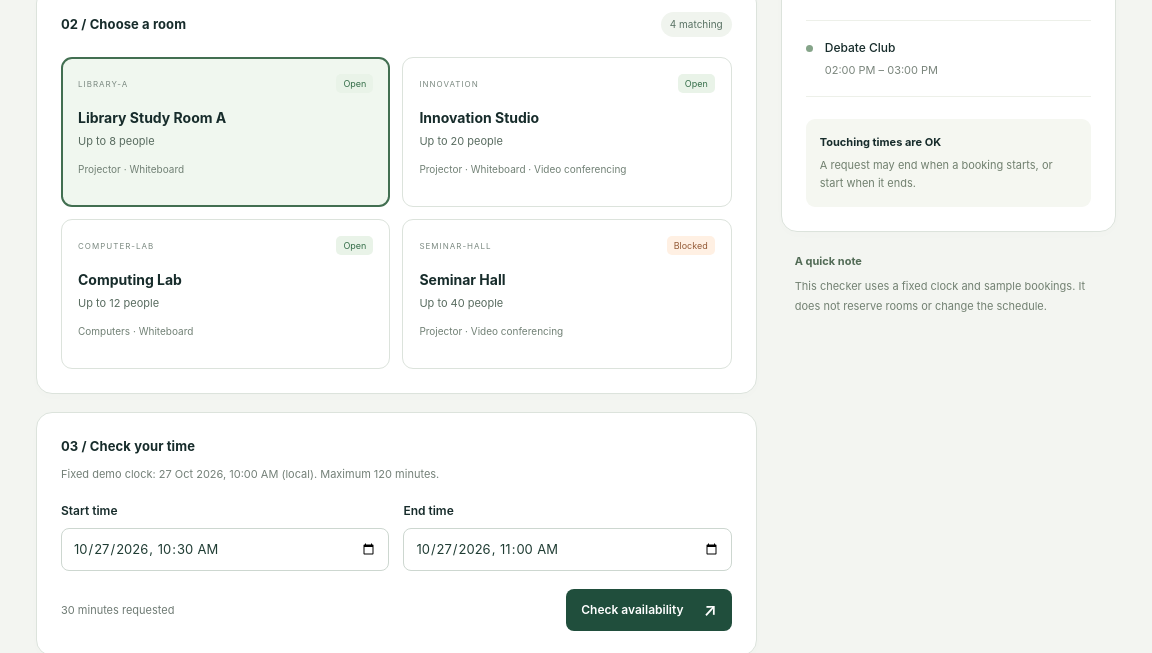
Test: mounted React integration: actual controls, state, result and schedule › F3 selecting a blocked matching room reports blocked feedback
(page scrolled)
Click the button that starts with "seminar-hall": click(455, 246) [402,219,732,369]
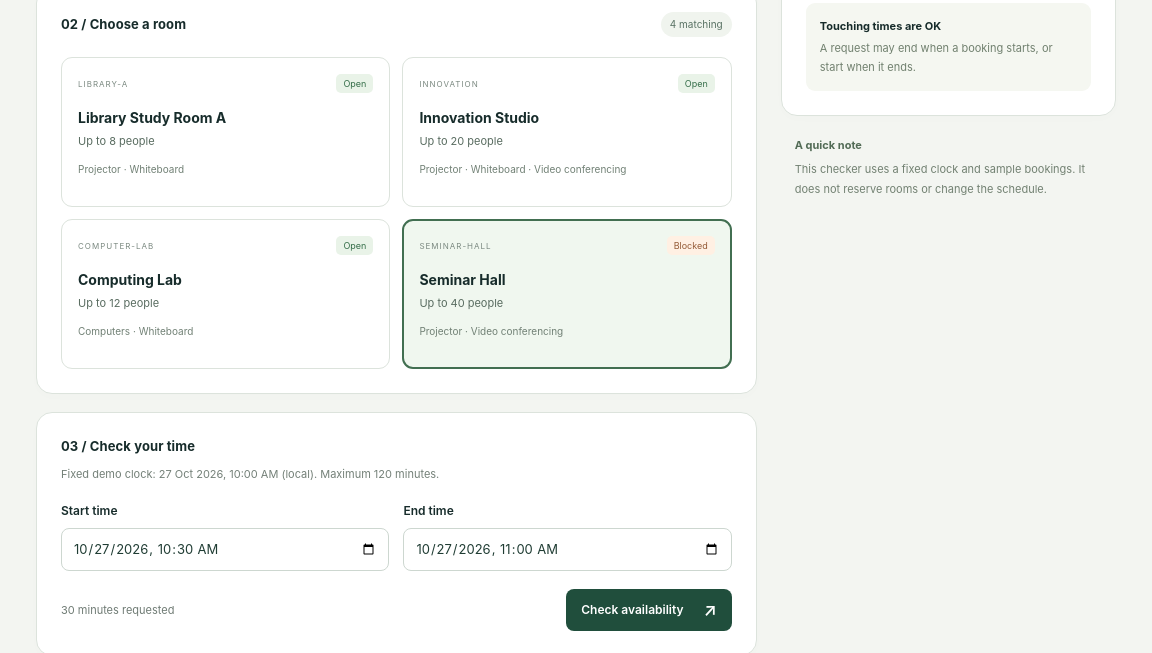
Click the button "Check availability ↗": click(649, 610) [566,589,732,631]
(page scrolled)
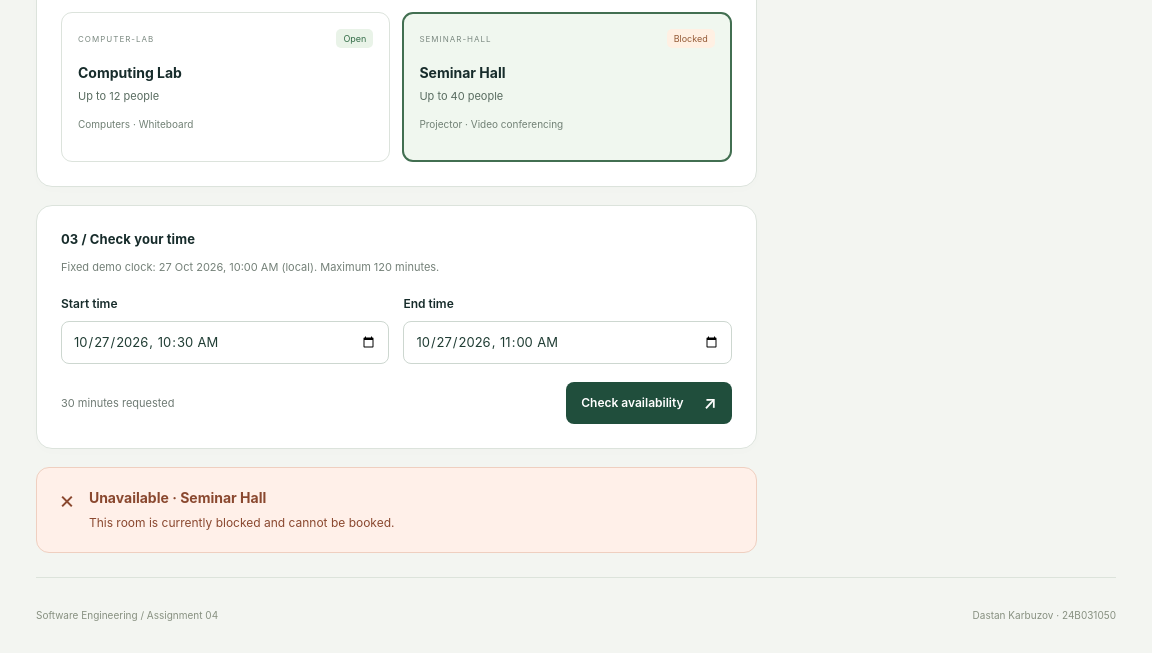
Expected: the message with class "result" shows "Unavailable · Seminar Hall", [36,467,757,554]
Expected: the message with class "result" shows "blocked", [89,515,394,530]
